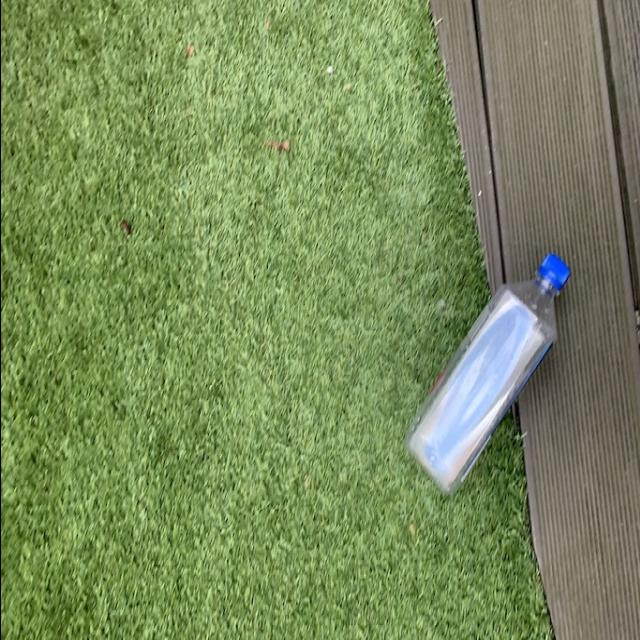litter: (402, 254, 572, 506)
